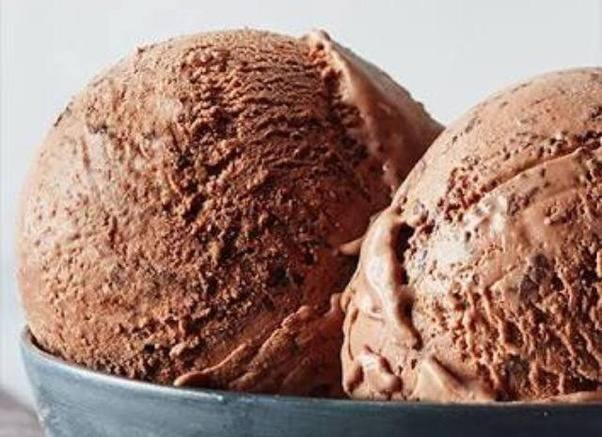ice-cream: (14, 28, 442, 400), (339, 66, 602, 405)
